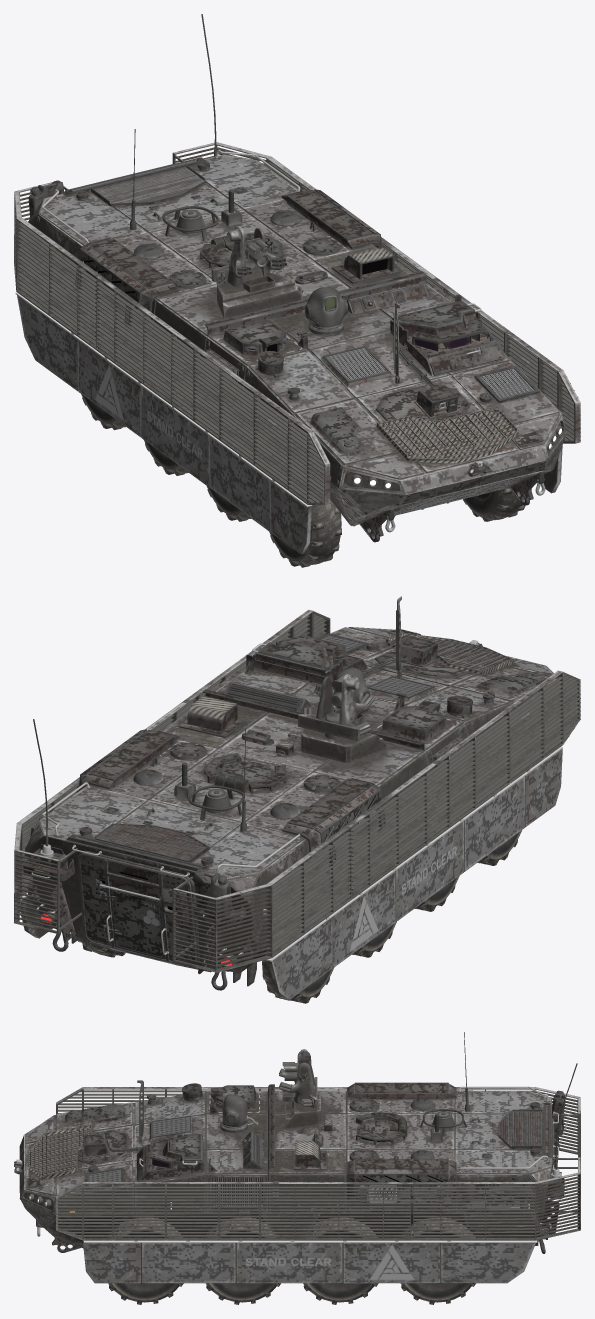
3 views of the same model, one above another, from view 1: azimuth 30°, elevation 25°; view 2: azimuth 150°, elevation 25°; view 3: azimuth 270°, elevation 25° (orthographic). The views are drawn at different scales.
Parts seen in each view (by area): view 1: Body.017, Body_Parts.037, shield_cage_1_.001, APC.003, Body_Parts.043, Body_Parts.038, Wheels.003, Body.021, shield_cage_1_.003; view 2: Body_Parts.037, shield_cage_1_.001, Body.017, APC.003, Body_Parts.043, Body.021, Body_Parts.038, Wheels.003, Body_Parts.042, shield_cage_1_.003; view 3: Body.017, shield_cage_1_.001, Body_Parts.037, APC.003, Wheels.003, Body_Parts.043, Body_Parts.038, Body.021, shield_cage_1_.003, Body_Parts.039, Body_Parts.042.
Part boxes in pixels (x1,y1,x2,y2): Body.017: (29,154,565,488); Body_Parts.037: (41,14,559,542); shield_cage_1_.001: (14,142,580,504); APC.003: (17,295,562,554); Body_Parts.043: (130,129,399,335); Body_Parts.038: (28,199,566,525); Wheels.003: (81,319,525,567); Body.021: (211,226,301,318); shield_cage_1_.003: (15,292,562,507); Body_Parts.037: (20,629,545,990); shield_cage_1_.001: (14,609,580,972); Body.017: (24,627,557,973); APC.003: (20,748,562,999); Body_Parts.043: (103,667,369,835); Body.021: (298,674,386,762); Body_Parts.038: (24,659,553,972); Wheels.003: (77,830,521,1003); Body_Parts.042: (194,868,232,915); shield_cage_1_.003: (21,746,562,961); Body.017: (25,1090,551,1245); shield_cage_1_.001: (56,1087,580,1240); Body_Parts.037: (14,1063,577,1253); APC.003: (83,1240,535,1283); Wheels.003: (107,1217,475,1304); Body_Parts.043: (220,1032,495,1170); Body_Parts.038: (19,1128,551,1248); Body.021: (279,1049,320,1129); shield_cage_1_.003: (84,1240,537,1242); Body_Parts.039: (58,1215,133,1247); Body_Parts.042: (552,1090,565,1129).
Bounding box in the file's own units: 3.11 × 3.46 × 7.62.
Materials: 6 (5 with a texture image).
